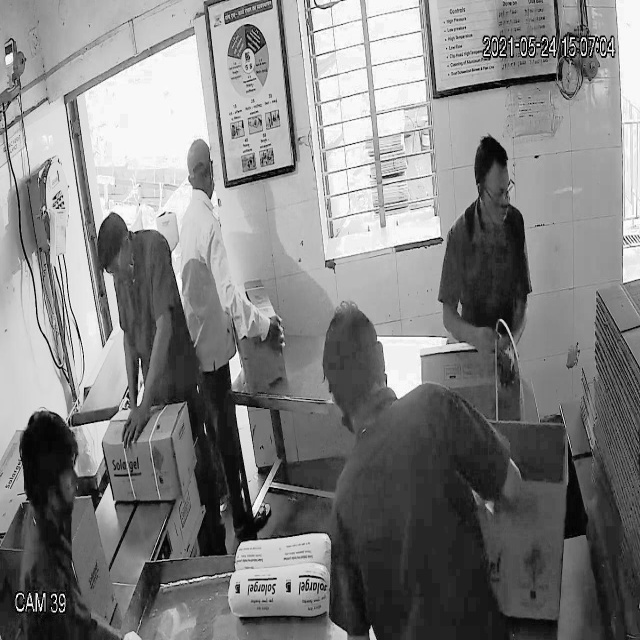Gafas: (469, 175, 517, 207)
